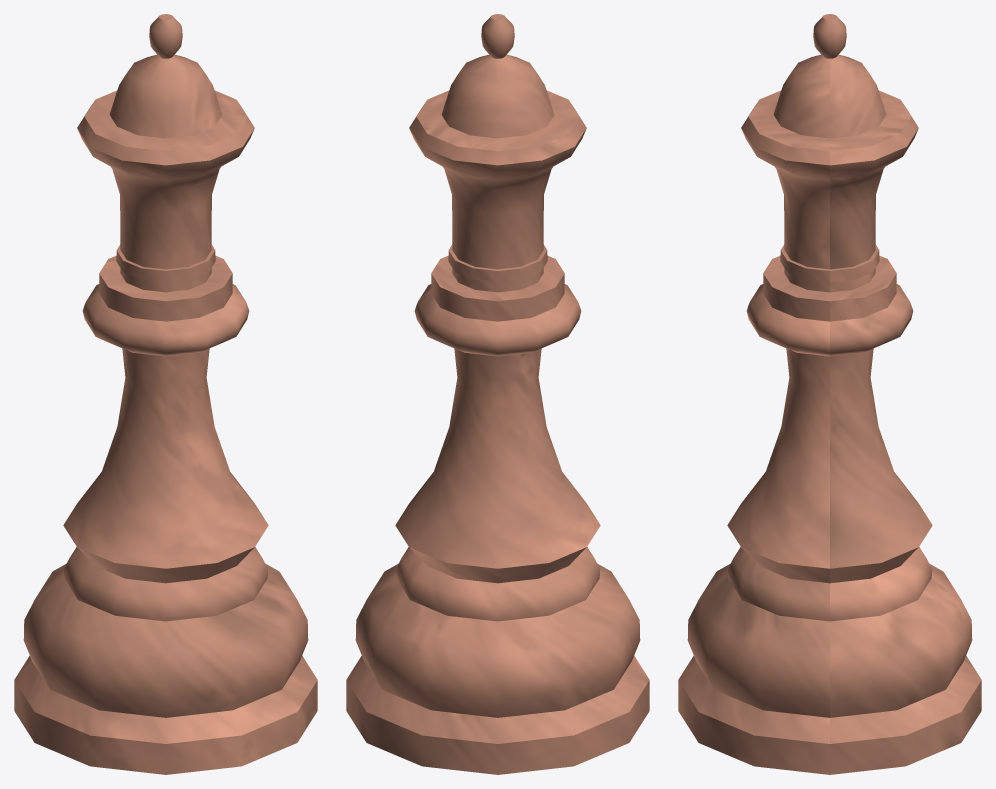
Rendered from Chess_White_queen.fbx.
3 views of the same model, side by side, from view 1: azimuth 30°, elevation 25°; view 2: azimuth 150°, elevation 25°; view 3: azimuth 270°, elevation 25° (orthographic).
Visible parts, largest first — view 1: Chess_pawn.011; view 2: Chess_pawn.011; view 3: Chess_pawn.011.
Boxes of the visible parts, x1=… form: Chess_pawn.011: x1=14, y1=14, x2=317, y2=774; Chess_pawn.011: x1=346, y1=14, x2=649, y2=774; Chess_pawn.011: x1=678, y1=14, x2=981, y2=774.
Size of the model in its own units: 31.07 by 78.36 by 31.07.
